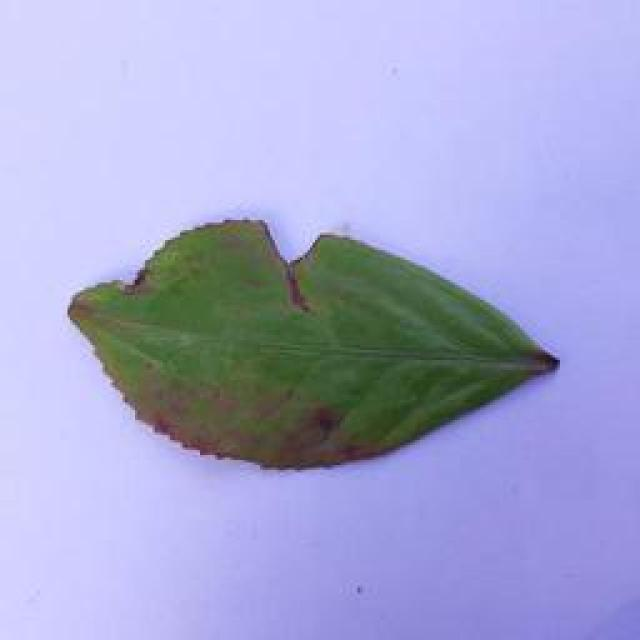Red Leaf Spot: (45, 201, 583, 479)
